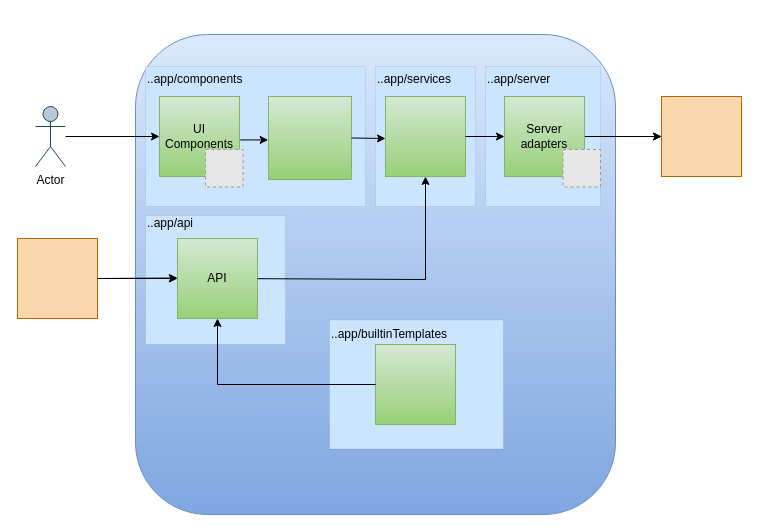
Some shapes in this 759 by 532 pixel diagram are drawn without their labels. Grey dashed boxes stand in for pictures. The centre of each missing label's shape, as x and y in pixels:
Back services: [701,136]
Built-in templates: [415,384]
Components business code: [310,138]
Shared business code: [425,136]
Templates: [57,278]
